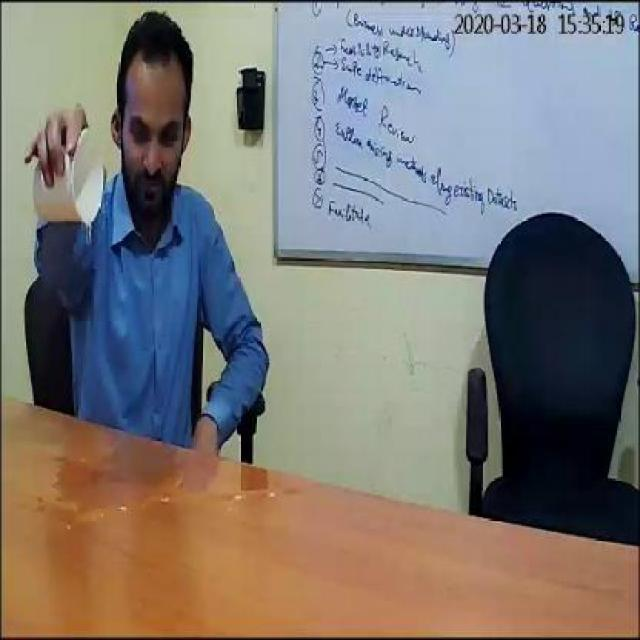spill: (29, 440, 300, 512)
